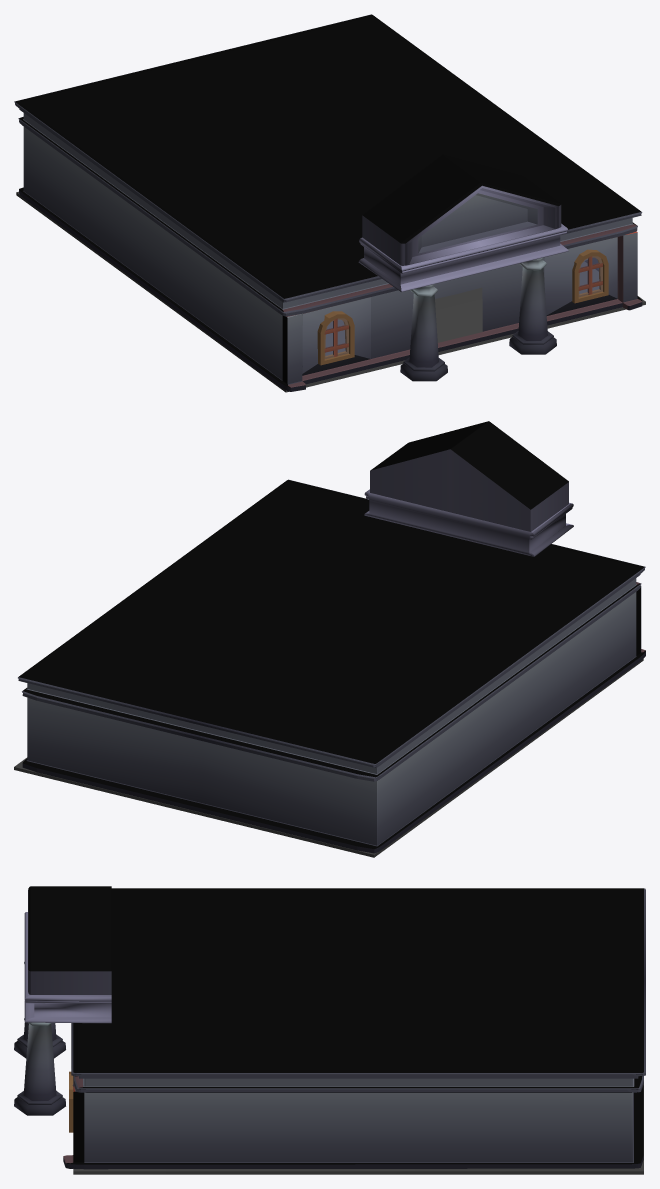
The model's file is Syndicate_books.glb.
3 views of the same model, one above another, from view 1: azimuth 30°, elevation 25°; view 2: azimuth 150°, elevation 25°; view 3: azimuth 270°, elevation 25° (orthographic). The views are drawn at different scales.
Visible parts, largest first — view 1: Lib-col, Tri-Pillar, Pillar-col, Stand-Above-Pillar-imp, floor-col, Glass-imp; view 2: Lib-col, Tri-Pillar, Stand-Above-Pillar-imp, floor-col; view 3: Lib-col, Tri-Pillar, floor-col, Pillar-col, Stand-Above-Pillar-imp.
Part boxes in pixels (<box>): Lib-col: <box>14,14,642,391</box>; Tri-Pillar: <box>362,155,561,265</box>; Pillar-col: <box>400,257,556,381</box>; Stand-Above-Pillar-imp: <box>358,223,568,291</box>; floor-col: <box>16,191,645,392</box>; Glass-imp: <box>317,249,608,365</box>; Lib-col: <box>18,479,645,853</box>; Tri-Pillar: <box>370,421,568,531</box>; Stand-Above-Pillar-imp: <box>364,489,573,556</box>; floor-col: <box>14,659,643,857</box>; Lib-col: <box>63,888,645,1169</box>; Tri-Pillar: <box>28,886,111,994</box>; floor-col: <box>73,1084,643,1174</box>; Pillar-col: <box>14,962,65,1115</box>; Stand-Above-Pillar-imp: <box>24,912,111,1023</box>.
Size of the model in its own units: 20.46 by 9.82 by 29.19.
Materials: 3 (1 with a texture image).
